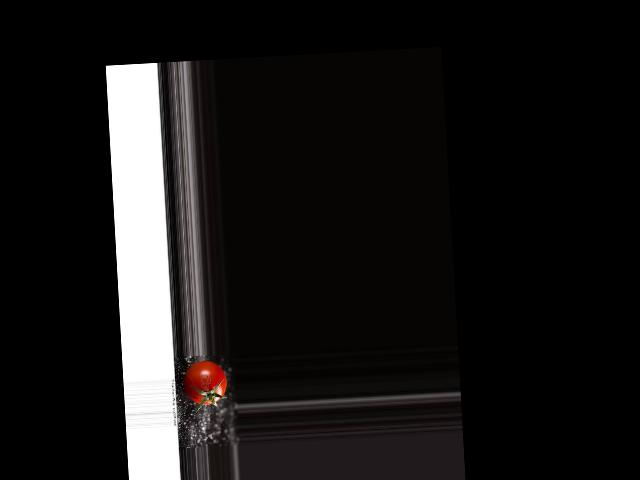tomato: (183, 360, 227, 406)
